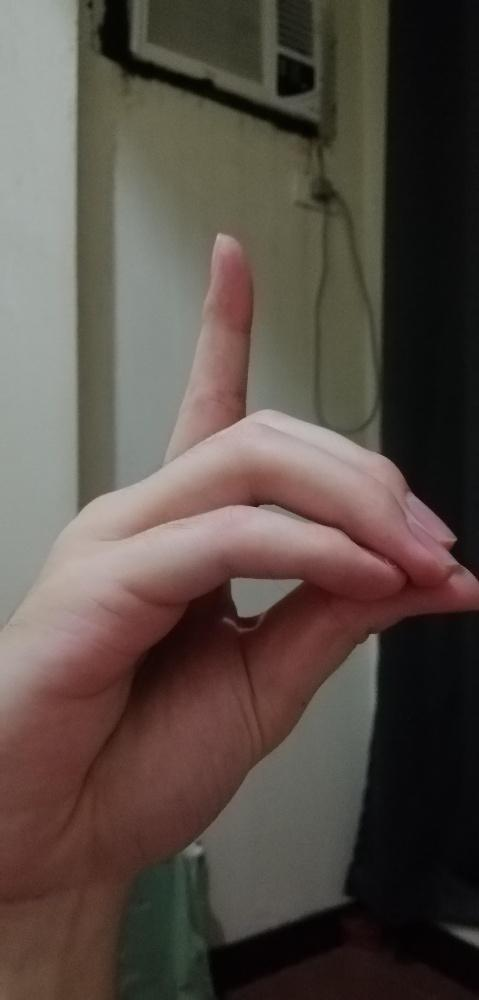d: (3, 232, 478, 867)
